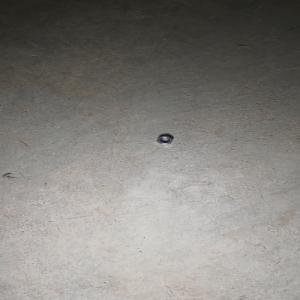Nut: (156, 134, 173, 145)
